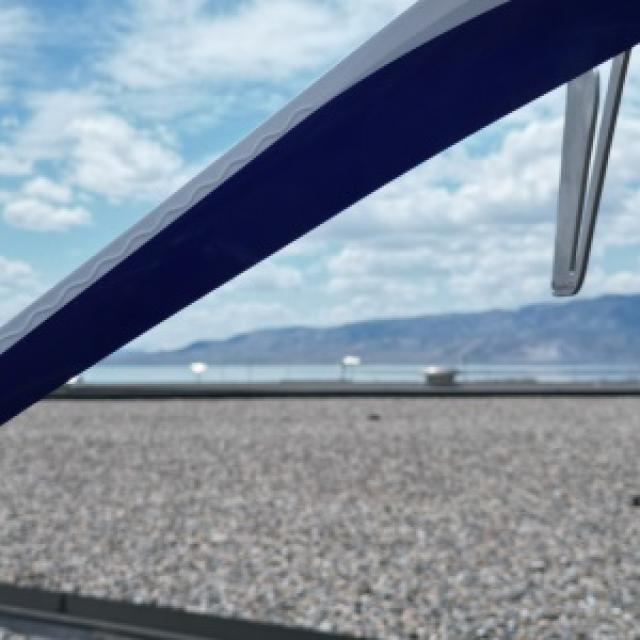healthy: (0, 45, 638, 638)
